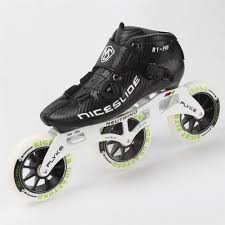roller_blate: (1, 26, 225, 202)
